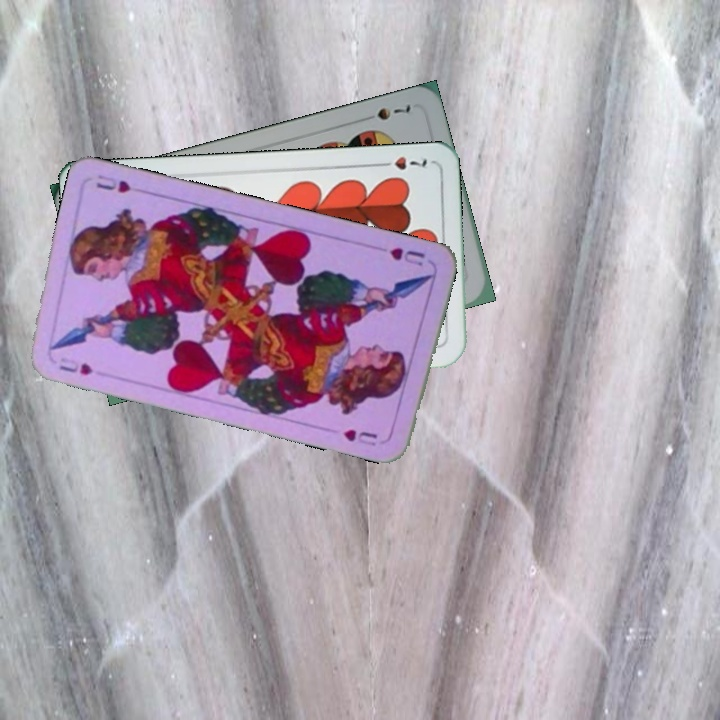H7: (374, 153, 431, 173)
HU: (385, 243, 427, 269), (55, 353, 95, 378)
S7: (358, 100, 414, 125)
